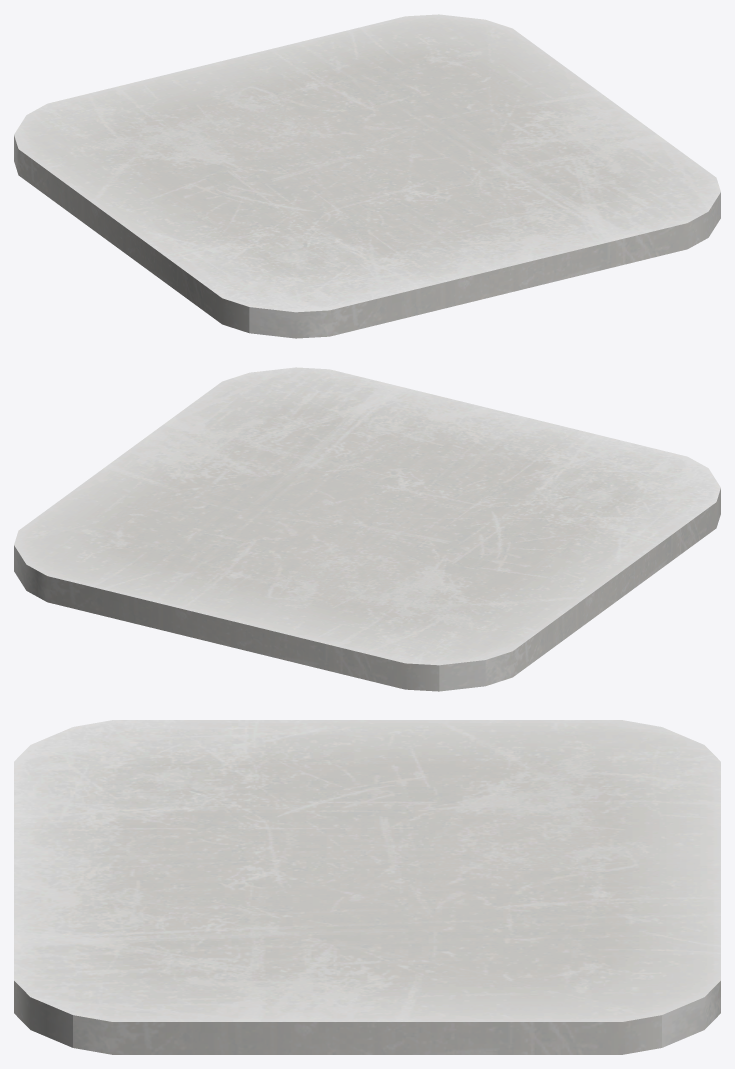
Rendered from CuttingBoard.glb.
The picture shows the model from 3 angles, top to bottom: view 1: azimuth 30°, elevation 25°; view 2: azimuth 150°, elevation 25°; view 3: azimuth 270°, elevation 25°; orthographic projection. The views are drawn at different scales.
Parts seen in each view (by area): view 1: ChoppingBoard2; view 2: ChoppingBoard2; view 3: ChoppingBoard2.
Part boxes in pixels (x1,y1,x2,y2): ChoppingBoard2: [14, 14, 720, 338]; ChoppingBoard2: [14, 367, 720, 691]; ChoppingBoard2: [14, 720, 720, 1054].
Size of the model in its own units: 0.7651 by 0.0388 by 0.7571.
Materials: 1 (1 with a texture image).
